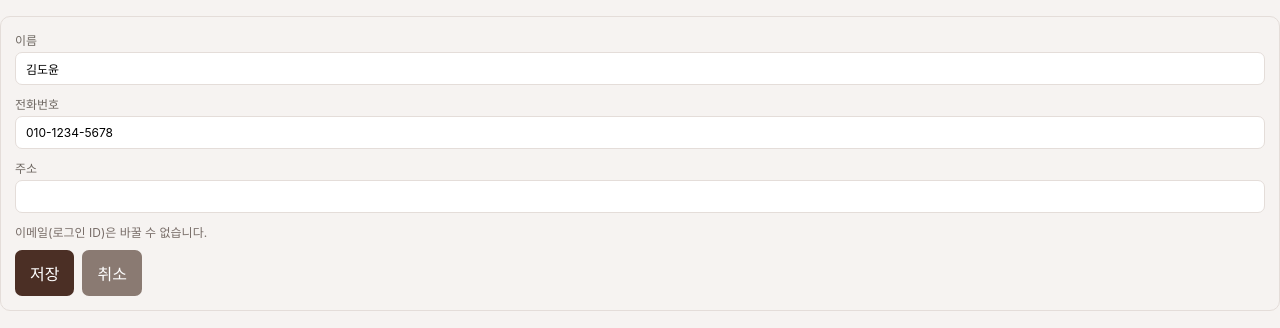
Test case: EditEmployeeForm › 이름을 비우면 저장할 수 없다
Clear the field labelled "이름" at (640, 68), box [15,52,1265,85]
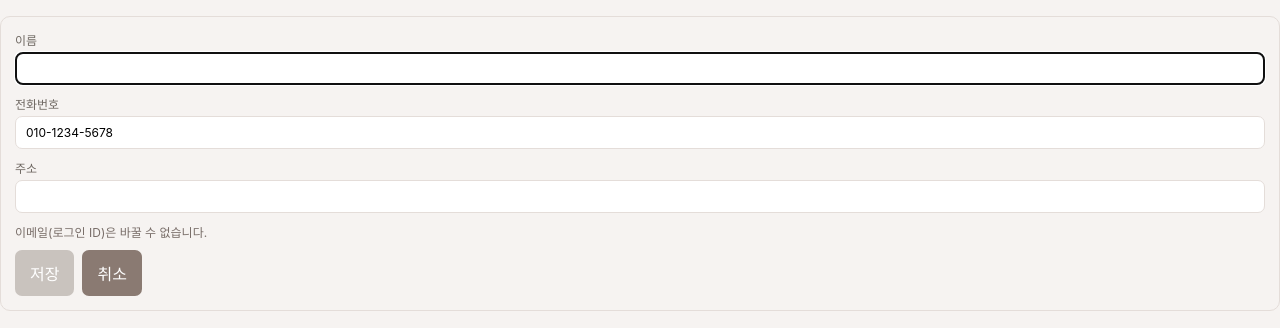
Expected: the button "저장" is disabled, [15,250,74,296]
